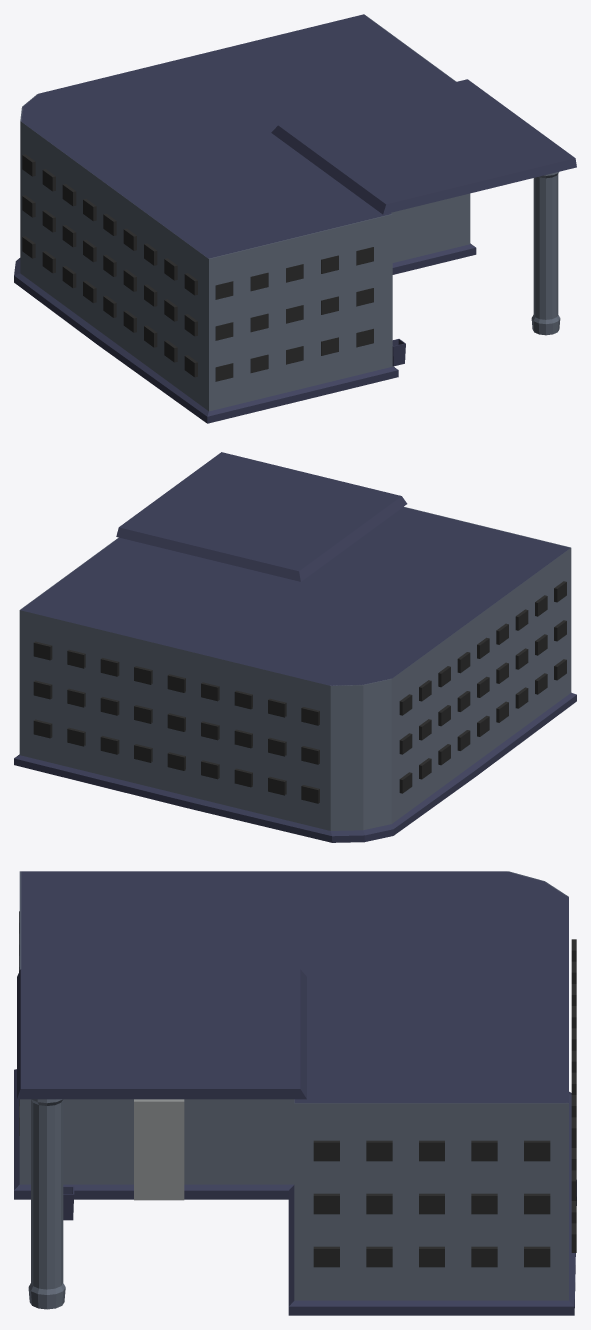
File: House2.fbx
3 views of the same model, one above another, from view 1: azimuth 30°, elevation 25°; view 2: azimuth 150°, elevation 25°; view 3: azimuth 270°, elevation 25° (orthographic). The views are drawn at different scales.
Visible parts, largest first — view 1: House2; view 2: House2; view 3: House2.
Part boxes in pixels (x1,y1,x2,y2): House2: (14,14,576,423); House2: (14,452,576,842); House2: (14,871,576,1315).
Size of the model in its own units: 1140 by 512 by 1136.
1 material, 1 textured.
